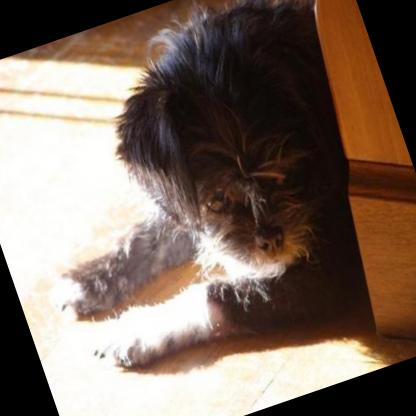affenpinscher: (0, 0, 407, 394)
